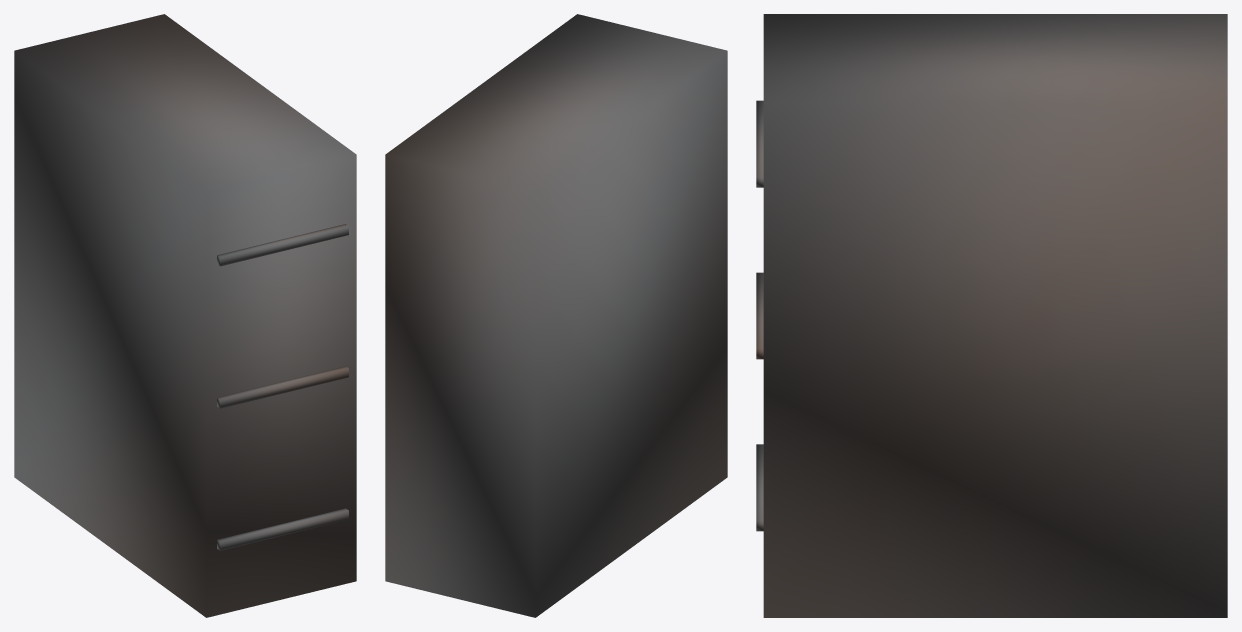
The model's file is Lemari_Dokumen.fbx.
3 renders of one model, left to right at view 1: azimuth 30°, elevation 25°; view 2: azimuth 150°, elevation 25°; view 3: azimuth 270°, elevation 25°, orthographic. The views are drawn at different scales.
Visible parts, largest first — view 1: Lemari_Dokumen; view 2: Lemari_Dokumen; view 3: Lemari_Dokumen.
Boxes of the visible parts, box(x1,y1,x2,y2) form: Lemari_Dokumen: box(14, 14, 356, 617); Lemari_Dokumen: box(385, 14, 727, 617); Lemari_Dokumen: box(756, 14, 1227, 617).
Bounding box in the file's own units: 0.7 × 1.9 × 1.58.
